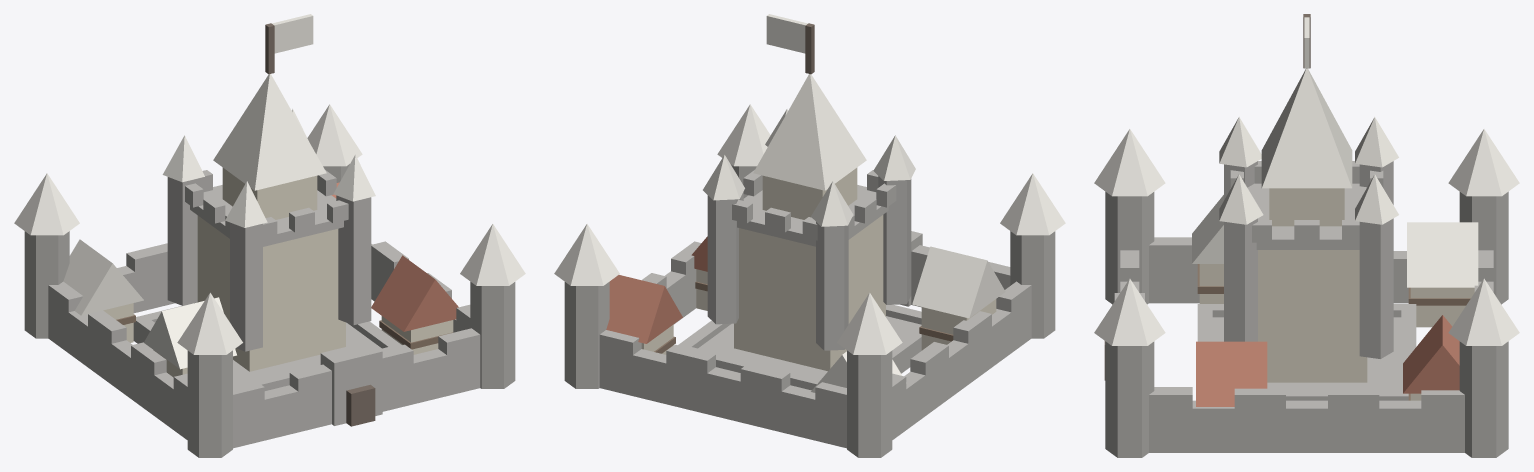
Rendered from capital.glb.
3 views of the same model, side by side, from view 1: azimuth 30°, elevation 25°; view 2: azimuth 150°, elevation 25°; view 3: azimuth 270°, elevation 25° (orthographic). The views are drawn at different scales.
Visible parts, largest first — view 1: medieval_capital; view 2: medieval_capital; view 3: medieval_capital.
Boxes of the visible parts, left/top/right/bottom form: medieval_capital: left=14, top=14, right=525, bottom=457; medieval_capital: left=554, top=14, right=1065, bottom=457; medieval_capital: left=1094, top=14, right=1519, bottom=457.
Size of the model in its own units: 0.9775 by 0.9292 by 1.
